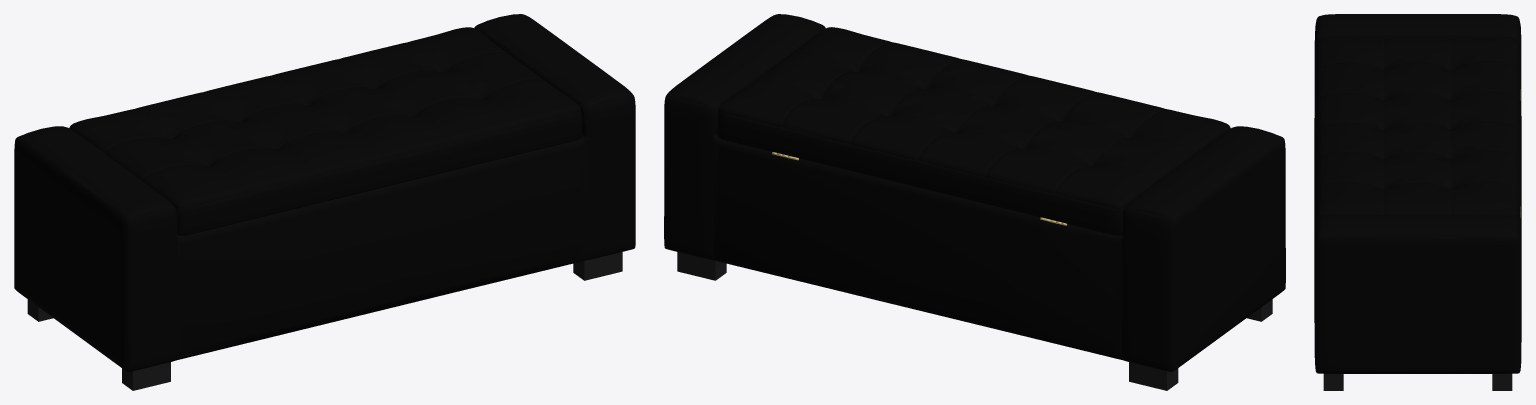
The model's file is B07C8DHX43.glb.
3 renders of one model, left to right at view 1: azimuth 30°, elevation 25°; view 2: azimuth 150°, elevation 25°; view 3: azimuth 270°, elevation 25°, orthographic. The views are drawn at different scales.
Parts seen in each view (by area): view 1: B07BLDHK7W; view 2: B07BLDHK7W; view 3: B07BLDHK7W.
Boxes of the visible parts, left/top/right/bottom form: B07BLDHK7W: left=14, top=14, right=635, bottom=390; B07BLDHK7W: left=664, top=14, right=1285, bottom=390; B07BLDHK7W: left=1314, top=14, right=1521, bottom=390.
Bounding box in the file's own units: 1.3 × 0.4444 × 0.508.
1 material, 1 textured.
